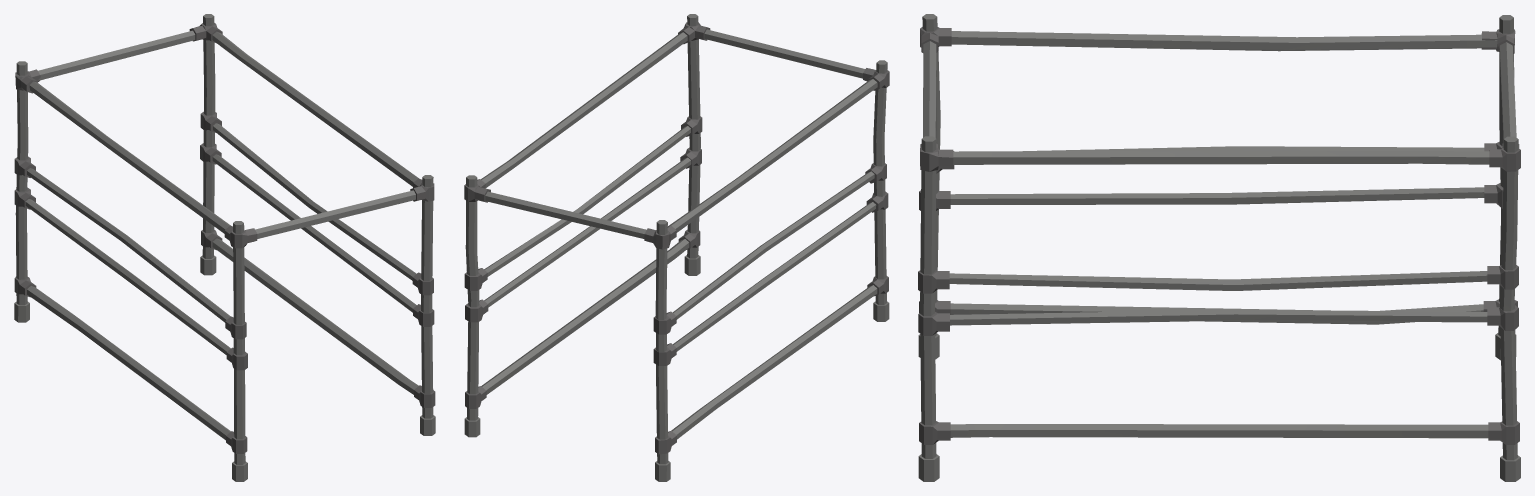
Rendered from SM_Prop_Scaffold_Stackable_01.fbx.
The picture shows the model from 3 angles, left to right: view 1: azimuth 30°, elevation 25°; view 2: azimuth 150°, elevation 25°; view 3: azimuth 270°, elevation 25°; orthographic projection. The views are drawn at different scales.
Visible parts, largest first — view 1: SM_Prop_Scaffold_Stackable_01; view 2: SM_Prop_Scaffold_Stackable_01; view 3: SM_Prop_Scaffold_Stackable_01.
Boxes of the visible parts, box(x1,y1,x2,y2) form: SM_Prop_Scaffold_Stackable_01: box(14, 14, 435, 481); SM_Prop_Scaffold_Stackable_01: box(464, 14, 889, 481); SM_Prop_Scaffold_Stackable_01: box(918, 14, 1520, 481).
Size of the model in its own units: 206 by 250 by 403.
